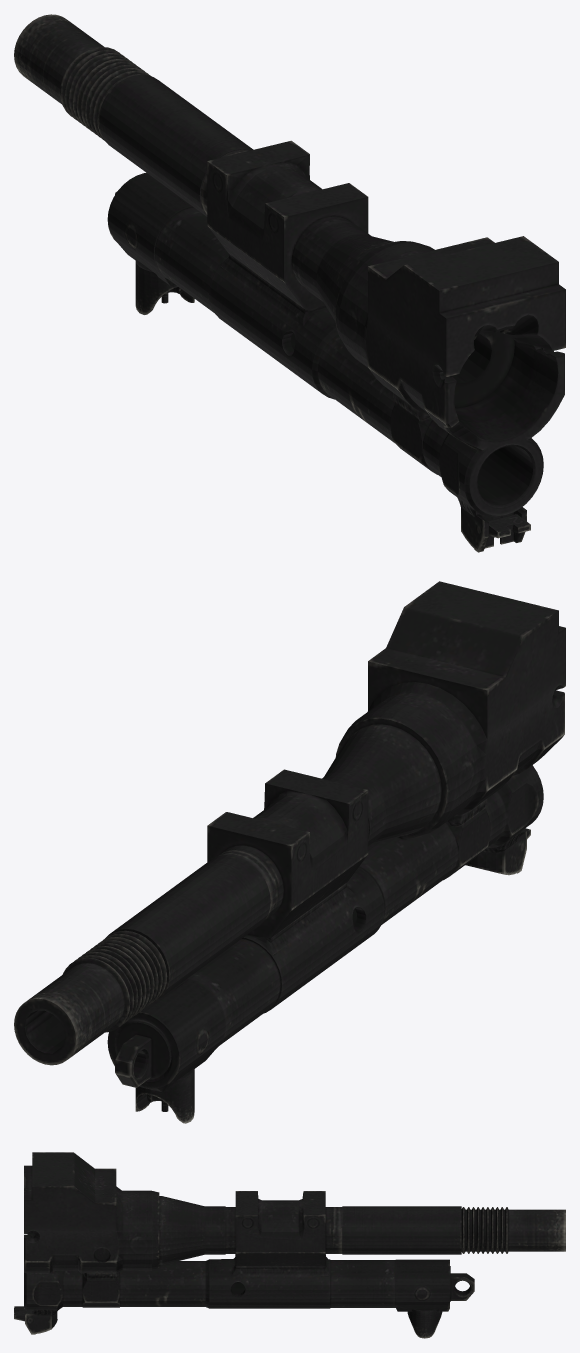
The picture shows the model from 3 angles, top to bottom: view 1: azimuth 30°, elevation 25°; view 2: azimuth 150°, elevation 25°; view 3: azimuth 270°, elevation 25°; orthographic projection. The views are drawn at different scales.
Parts seen in each view (by area): view 1: TW_645122f6d4928d46d30be3ff_PZ_Import; view 2: TW_645122f6d4928d46d30be3ff_PZ_Import; view 3: TW_645122f6d4928d46d30be3ff_PZ_Import.
Part boxes in pixels (box(x1,y1,x2,y2)): TW_645122f6d4928d46d30be3ff_PZ_Import: box(14, 14, 565, 552); TW_645122f6d4928d46d30be3ff_PZ_Import: box(14, 581, 565, 1123); TW_645122f6d4928d46d30be3ff_PZ_Import: box(14, 1152, 565, 1338).
Size of the model in its own units: 0.0156 by 0.1059 by 0.0342.
1 material, 1 textured.
